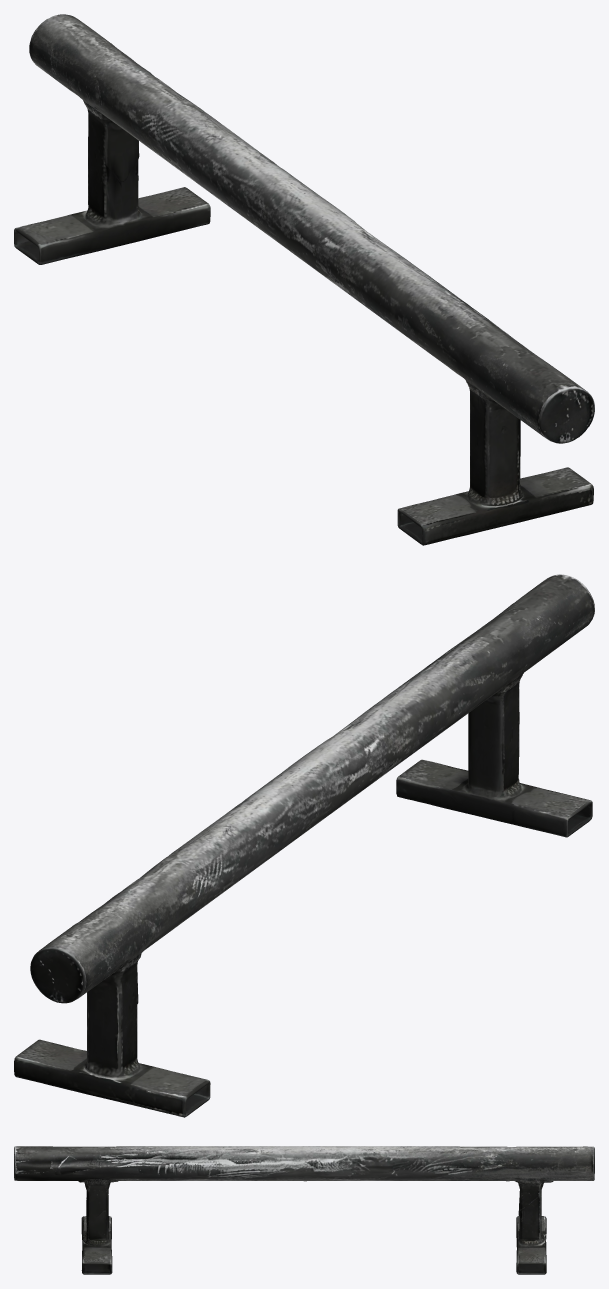
File: CCG_Rail_web.glb
3 renders of one model, top to bottom at view 1: azimuth 30°, elevation 25°; view 2: azimuth 150°, elevation 25°; view 3: azimuth 270°, elevation 25°, orthographic. The views are drawn at different scales.
Visible parts, largest first — view 1: tripo_node_6483feca-bcb1-4aff-b7a8-c4c0bd39ca21; view 2: tripo_node_6483feca-bcb1-4aff-b7a8-c4c0bd39ca21; view 3: tripo_node_6483feca-bcb1-4aff-b7a8-c4c0bd39ca21.
Part boxes in pixels (box(x1,y1,x2,y2)): tripo_node_6483feca-bcb1-4aff-b7a8-c4c0bd39ca21: box(14, 14, 594, 545); tripo_node_6483feca-bcb1-4aff-b7a8-c4c0bd39ca21: box(14, 574, 594, 1117); tripo_node_6483feca-bcb1-4aff-b7a8-c4c0bd39ca21: box(14, 1146, 594, 1274).
Size of the model in its own units: 0.1898 by 0.1922 by 0.9801.
1 material, 1 textured.
